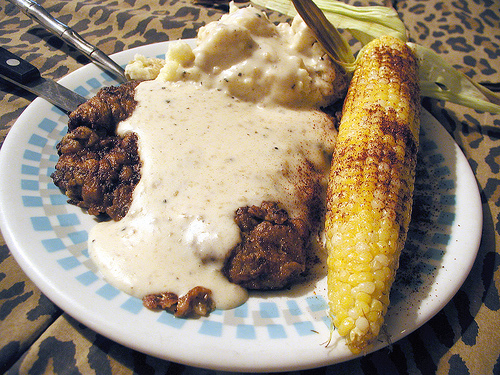corn: (325, 36, 422, 355)
